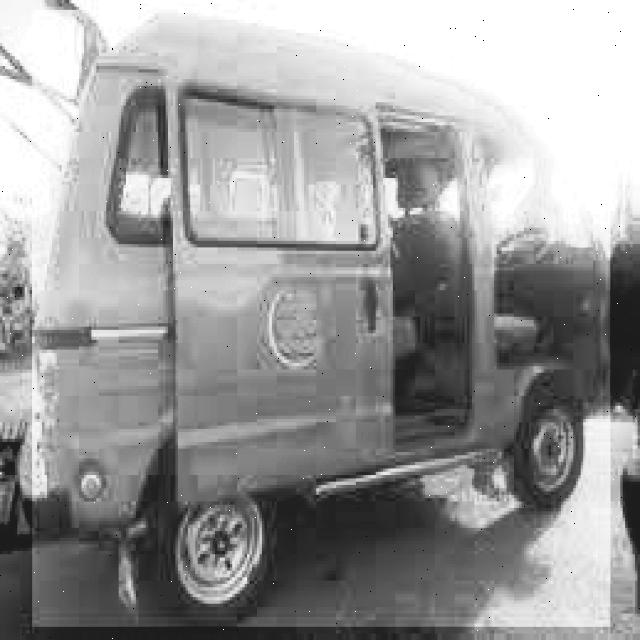LCV: (32, 10, 613, 630)
